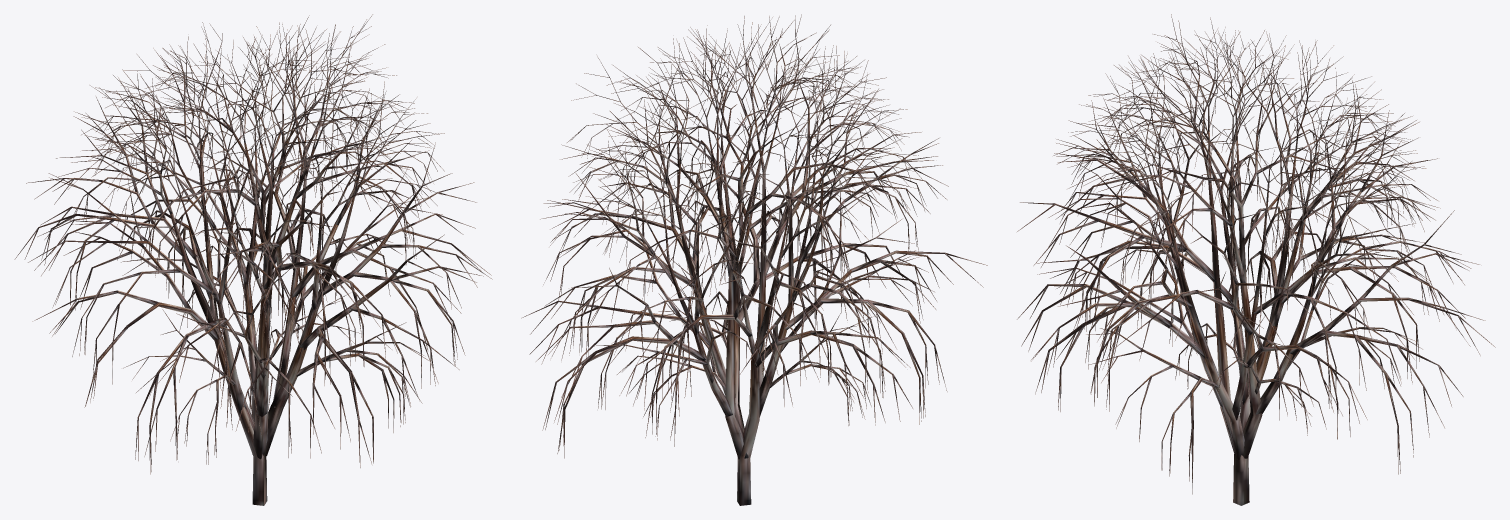
File: Tree 3.fbx
The picture shows the model from 3 angles, left to right: view 1: azimuth 30°, elevation 25°; view 2: azimuth 150°, elevation 25°; view 3: azimuth 270°, elevation 25°; orthographic projection. The views are drawn at different scales.
Visible parts, largest first — view 1: Tree 3; view 2: Tree 3; view 3: Tree 3.
Boxes of the visible parts, x1,y1,x2,y2 form: Tree 3: (14, 14, 492, 505); Tree 3: (521, 14, 987, 505); Tree 3: (1017, 14, 1495, 505).
Bounding box in the file's own units: 521 × 635 × 587.
Materials: 1 (1 with a texture image).
